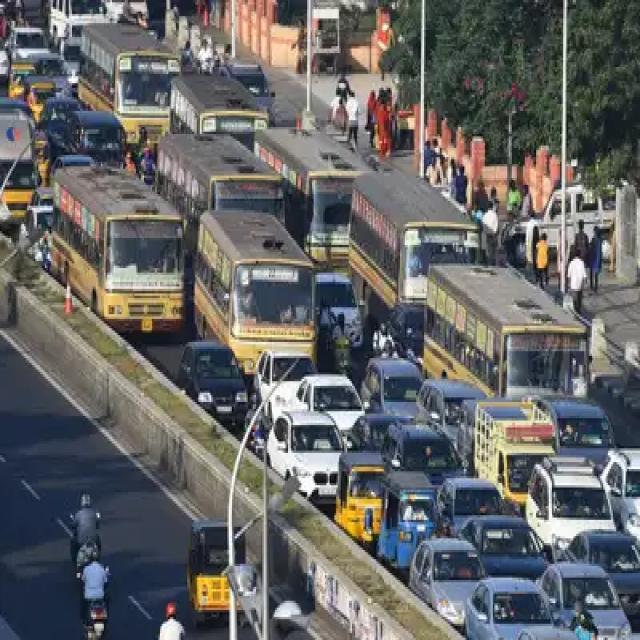Vehicles: (422, 253, 600, 443), (45, 158, 191, 375), (354, 169, 483, 345), (200, 221, 326, 382), (67, 14, 194, 169), (495, 172, 637, 282), (527, 450, 615, 590), (263, 410, 355, 533), (174, 338, 261, 439), (370, 465, 440, 589), (461, 565, 557, 640), (294, 356, 364, 456), (183, 528, 252, 629), (340, 453, 392, 555), (262, 334, 319, 419), (2, 157, 61, 235)
